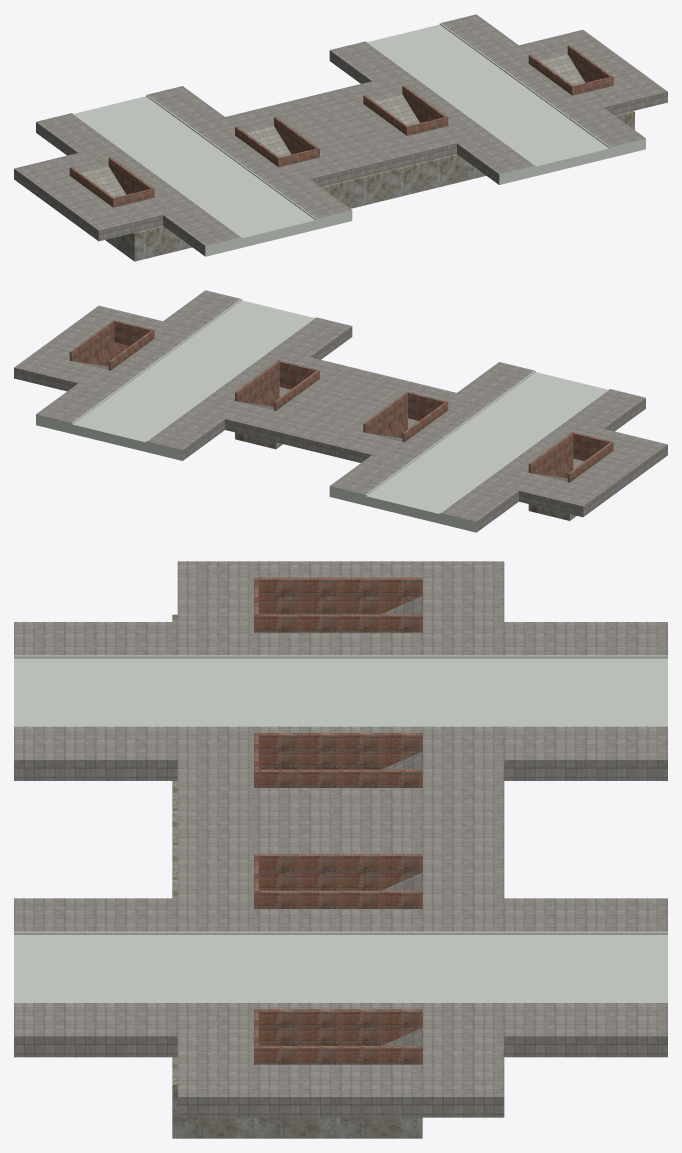
Rendered from doubleUnderpass_high.fbx.
The picture shows the model from 3 angles, top to bottom: view 1: azimuth 30°, elevation 25°; view 2: azimuth 150°, elevation 25°; view 3: azimuth 270°, elevation 25°; orthographic projection. The views are drawn at different scales.
Visible parts, largest first — view 1: materialA150, materialE150, materialC150, materialD150, materialB150, materialF150, materialG150; view 2: materialA150, materialE150, materialC150, materialB150, materialF150, materialD150, materialG150; view 3: materialA150, materialE150, materialC150, materialD150, materialF150, materialG150.
Part boxes in pixels (x1=…): materialA150: x1=14, y1=14, x2=667, y2=256; materialE150: x1=74, y1=24, x2=608, y2=237; materialC150: x1=69, y1=45, x2=613, y2=207; materialD150: x1=105, y1=111, x2=634, y2=261; materialB150: x1=205, y1=138, x2=645, y2=256; materialF150: x1=71, y1=23, x2=610, y2=237; materialG150: x1=146, y1=23, x2=609, y2=219; materialA150: x1=14, y1=290, x2=667, y2=532; materialE150: x1=73, y1=300, x2=607, y2=513; materialC150: x1=69, y1=320, x2=613, y2=482; materialB150: x1=36, y1=414, x2=476, y2=532; materialF150: x1=72, y1=299, x2=609, y2=512; materialD150: x1=235, y1=432, x2=576, y2=520; materialG150: x1=72, y1=299, x2=535, y2=495; materialA150: x1=14, y1=561, x2=667, y2=1117; materialE150: x1=14, y1=658, x2=667, y2=1001; materialC150: x1=254, y1=577, x2=422, y2=1064; materialD150: x1=172, y1=614, x2=422, y2=1138; materialF150: x1=14, y1=655, x2=667, y2=1002; materialG150: x1=14, y1=656, x2=667, y2=934.
Size of the model in its own units: 99.2 by 7.8 by 51.2.
